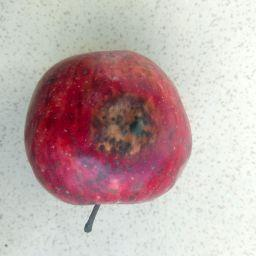apple: (20, 39, 197, 246)
